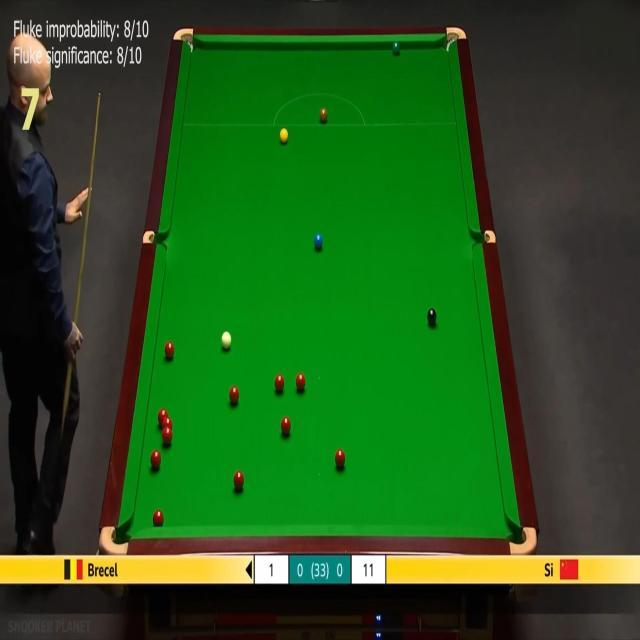Ball: (280, 417, 292, 435), (334, 450, 346, 468), (150, 451, 162, 468), (152, 509, 164, 526), (162, 426, 173, 444), (222, 331, 232, 349), (158, 408, 168, 426), (229, 386, 239, 404), (274, 374, 284, 392), (296, 373, 306, 390), (427, 308, 437, 325), (234, 472, 244, 489), (164, 342, 174, 358), (162, 417, 173, 430), (314, 234, 323, 248), (280, 128, 288, 143), (320, 108, 328, 121), (392, 42, 400, 55)
